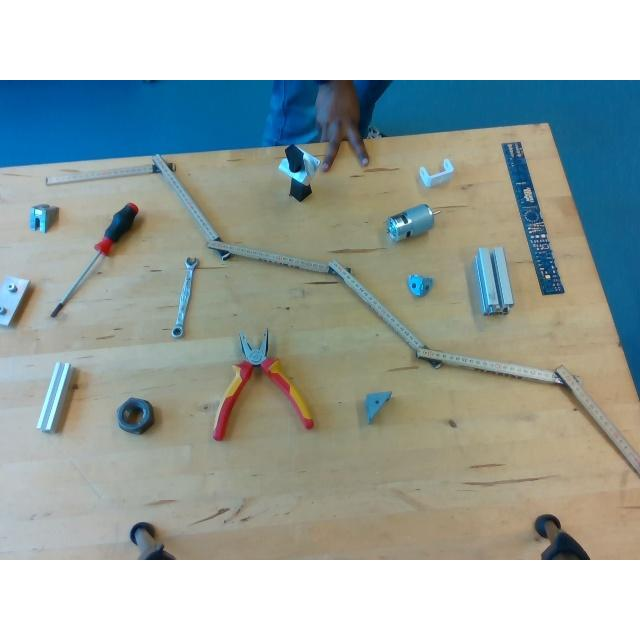F20_20_G: (37, 361, 73, 431)
M30: (118, 396, 154, 432)
Motor2: (381, 202, 443, 244)
S40_40_G: (475, 246, 513, 314)
Wrench: (170, 254, 200, 340)
